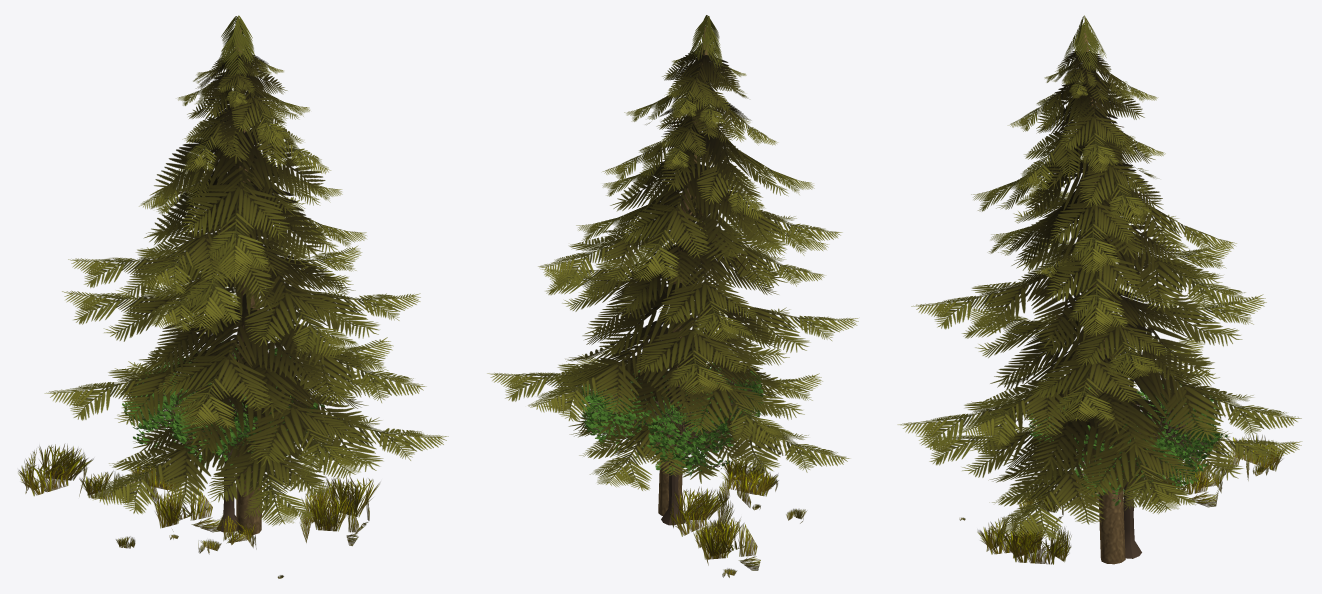
The picture shows the model from 3 angles, left to right: view 1: azimuth 30°, elevation 25°; view 2: azimuth 150°, elevation 25°; view 3: azimuth 270°, elevation 25°; orthographic projection. The views are drawn at different scales.
Parts seen in each view (by area): view 1: Low Poly Stylized 2D Grass.2751; view 2: Low Poly Stylized 2D Grass.2751; view 3: Low Poly Stylized 2D Grass.2751.
Boxes of the visible parts, <box> form: Low Poly Stylized 2D Grass.2751: <box>18,15,448,578</box>; Low Poly Stylized 2D Grass.2751: <box>487,15,858,577</box>; Low Poly Stylized 2D Grass.2751: <box>897,15,1302,564</box>.
Size of the model in its own units: 10.13 by 14.64 by 10.35.
5 materials, 4 textured.
